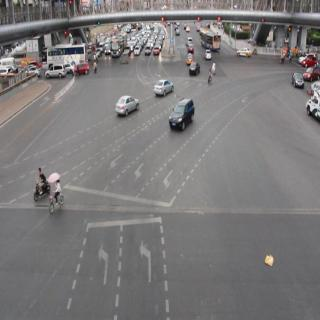BigCar: (111, 36, 123, 58)
Car: (169, 96, 195, 135), (114, 96, 138, 116), (154, 76, 173, 96), (45, 62, 66, 78), (304, 62, 320, 80), (71, 60, 89, 76), (291, 71, 304, 91), (237, 44, 252, 60), (190, 60, 200, 76), (133, 43, 142, 58), (204, 48, 213, 61), (152, 45, 160, 58), (144, 44, 152, 56), (104, 44, 111, 54)
